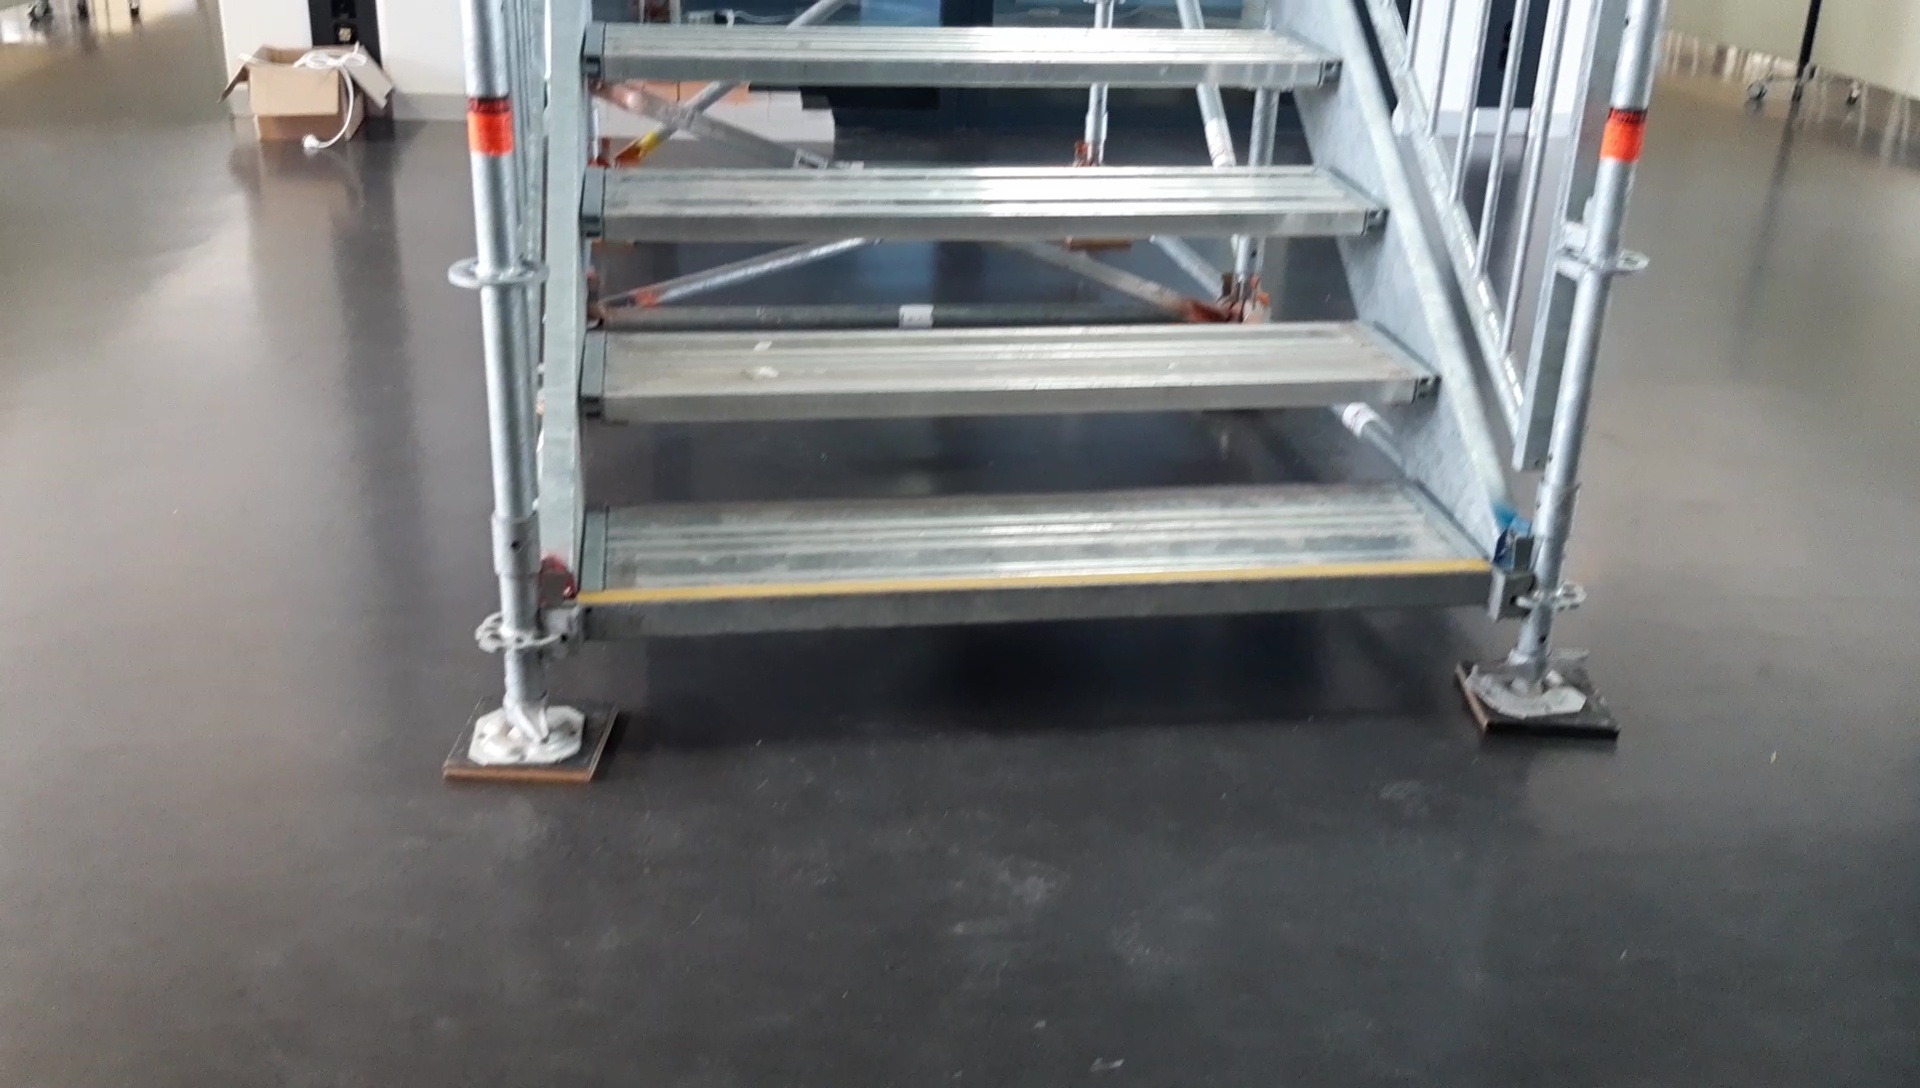edge: (575, 564, 1495, 634), (578, 376, 1443, 421), (582, 206, 1385, 239), (580, 53, 1345, 84)
stairs: (439, 5, 1615, 778)
